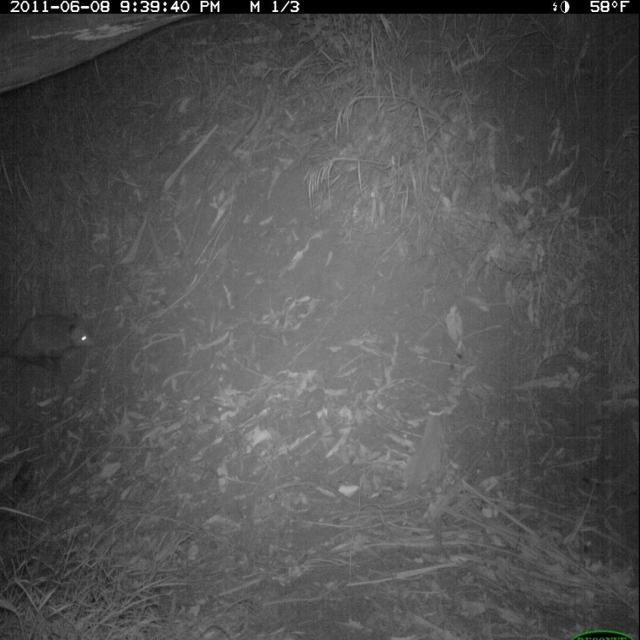opossum: (1, 307, 100, 383)
